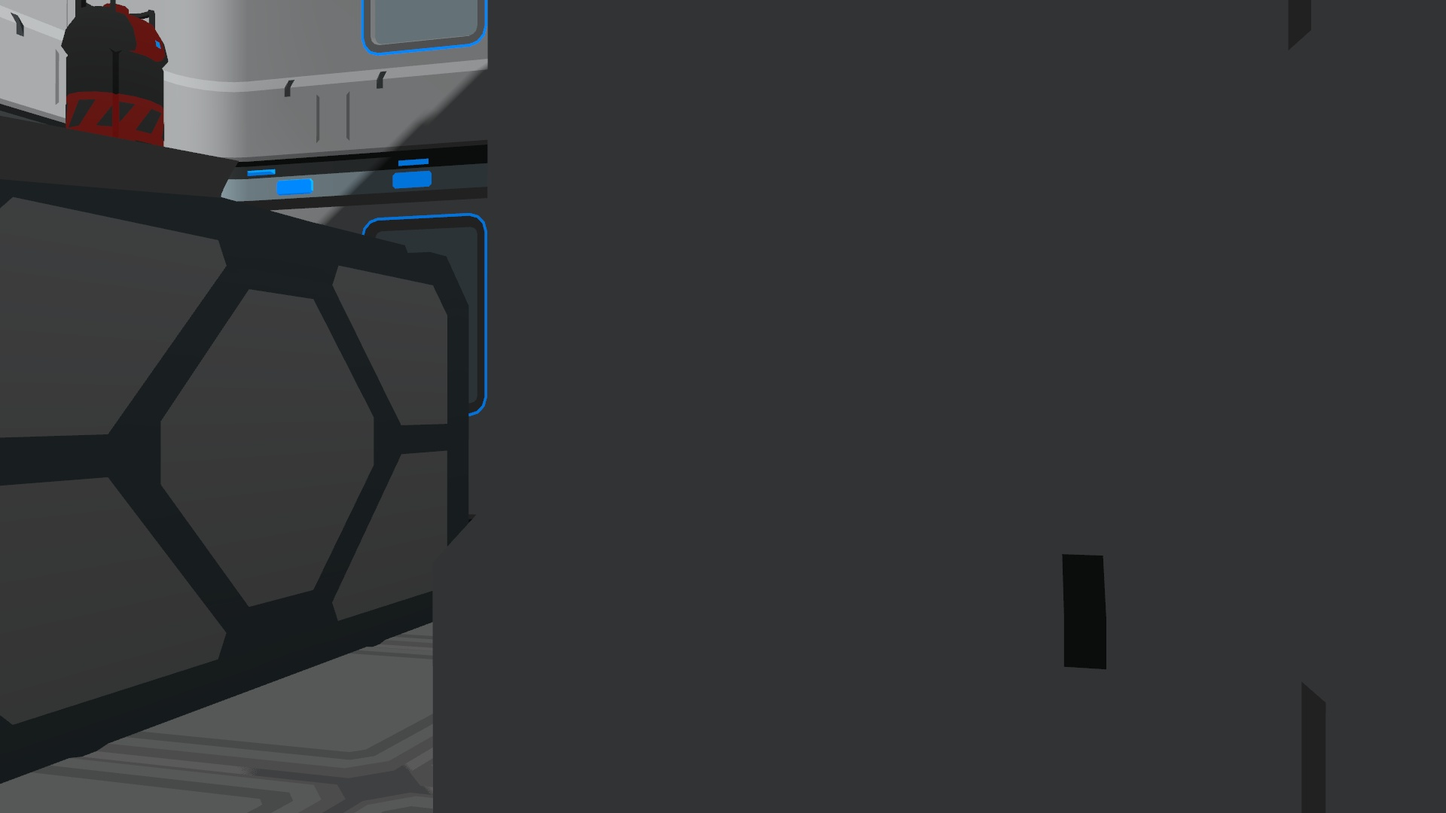red_barrel: (53, 0, 169, 158)
